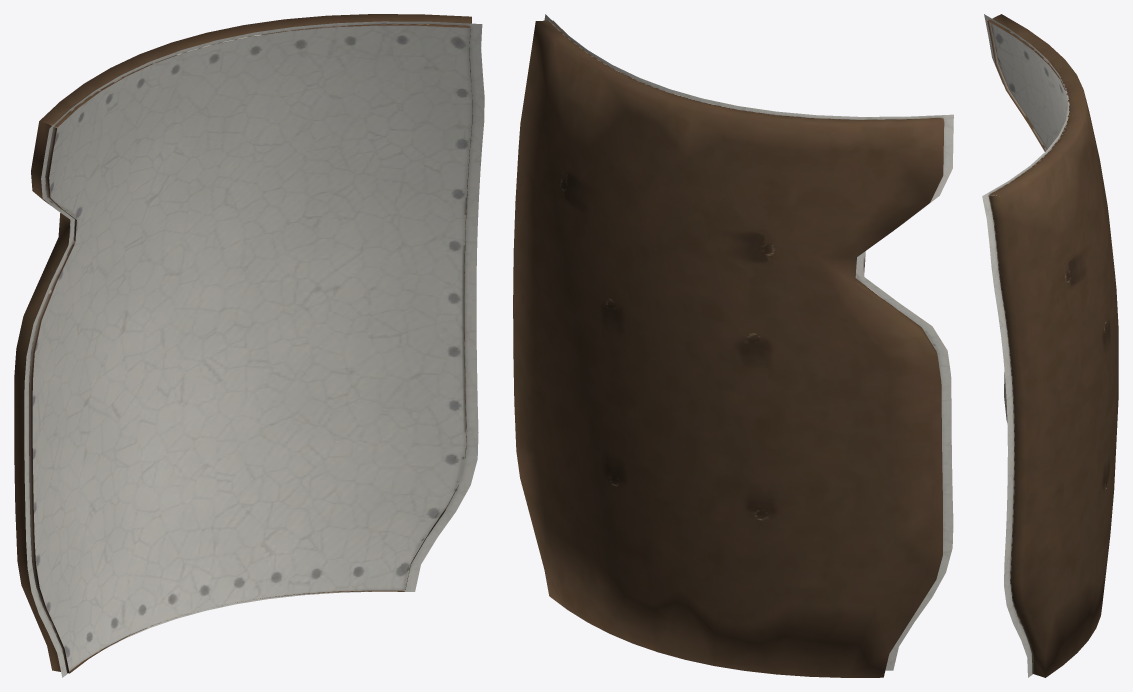
File: targe_lod.glb
The picture shows the model from 3 angles, left to right: view 1: azimuth 30°, elevation 25°; view 2: azimuth 150°, elevation 25°; view 3: azimuth 270°, elevation 25°; orthographic projection. The views are drawn at different scales.
Parts seen in each view (by area): view 1: shield_face, shield_back; view 2: shield_back, shield_face; view 3: shield_back, shield_face.
Boxes of the visible parts, x1,y1,x2,y2 form: shield_face: (24, 21, 484, 677); shield_back: (14, 14, 472, 673); shield_back: (513, 20, 944, 677); shield_face: (544, 14, 953, 670); shield_back: (987, 14, 1118, 677); shield_face: (982, 14, 1068, 677).
Size of the model in its own units: 0.41 by 0.5 by 0.1241.
1 material, 1 textured.
